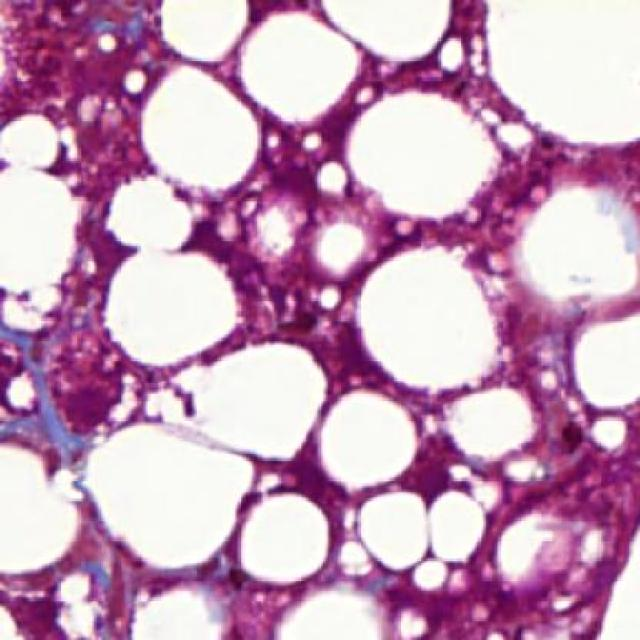steatosis: (348, 253, 519, 394), (338, 83, 498, 228), (182, 339, 330, 456), (136, 68, 262, 192)
